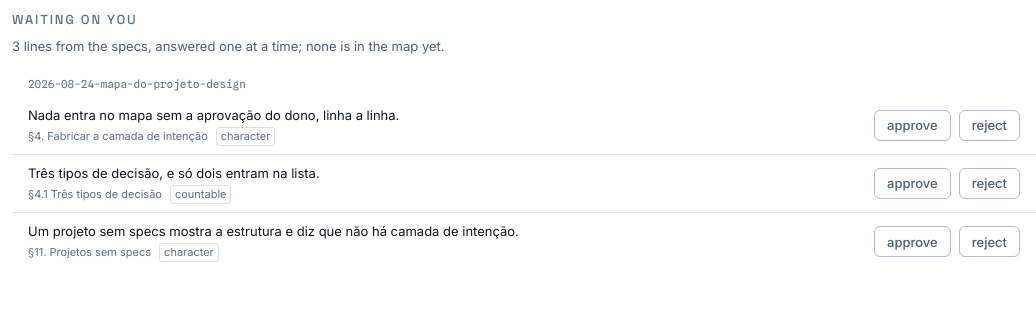
Test: the pile nobody has read › says why an answer was refused, and keeps the line
The width and height of the screenshot is (1036, 323).
Expected: the text "Nada entra no mapa sem a aprovação do dono, linha a linha." is shown, [28,107,399,123]
Click the button with aria-label "approve line 1": (912, 125) [874,110,951,141]
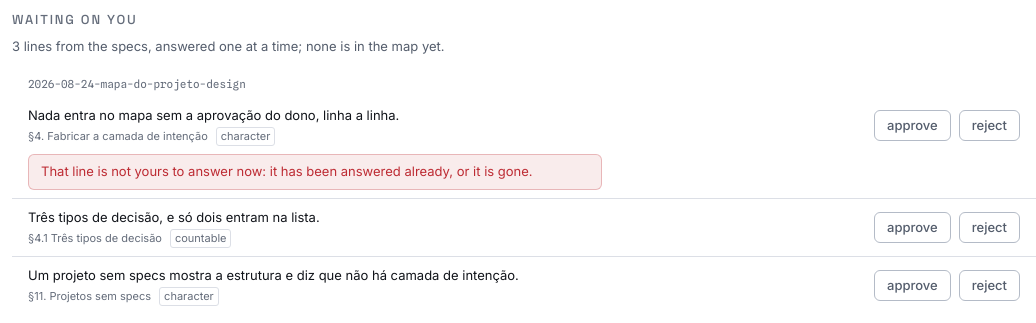
Expected: the text "Nada entra no mapa sem a aprovação do dono, linha a linha." is shown, [28,107,399,123]
Now the text "not yours to answer now" is shown, box [41,163,533,179]
